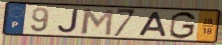7: (112, 8, 138, 38)
9: (30, 6, 50, 33)
A: (136, 11, 169, 38)
G: (168, 11, 198, 40)
J: (56, 8, 81, 34)
M: (80, 7, 116, 37)
